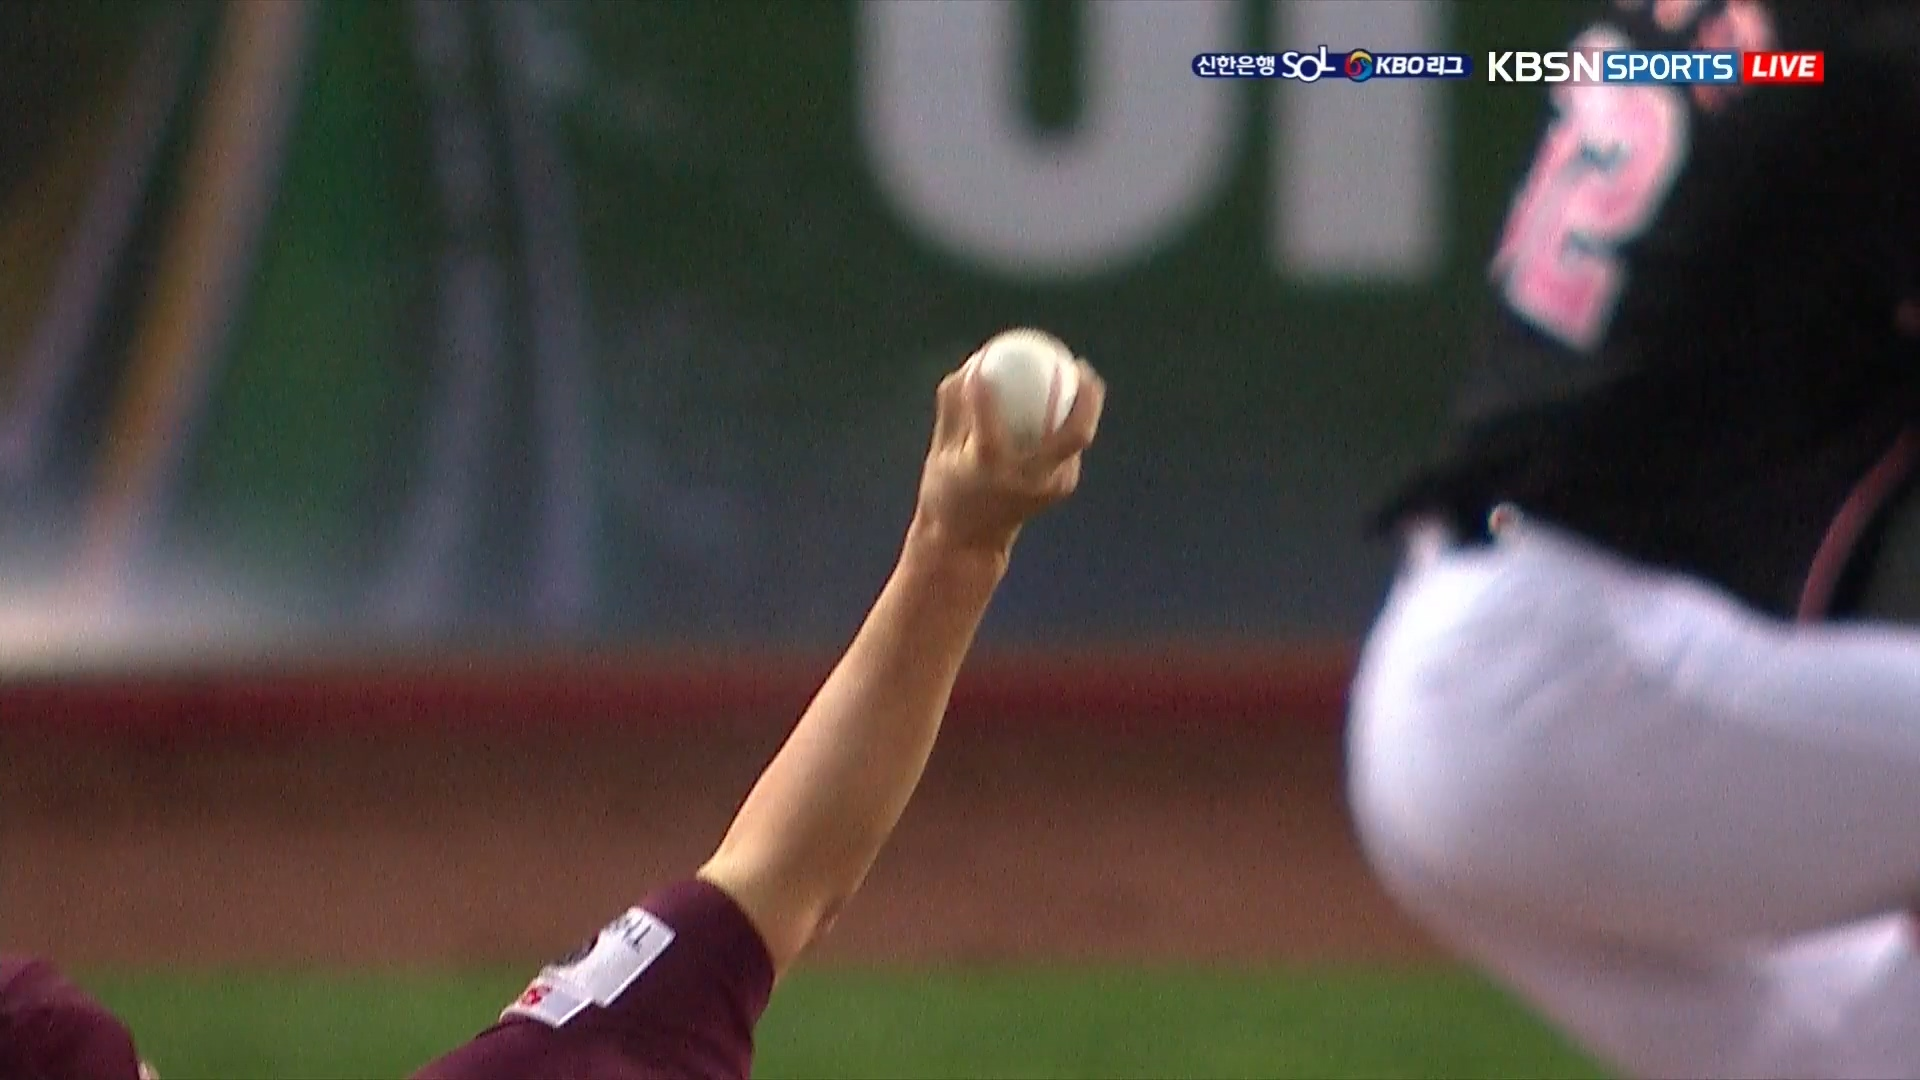zoomin_hand: (723, 311, 1131, 988)
